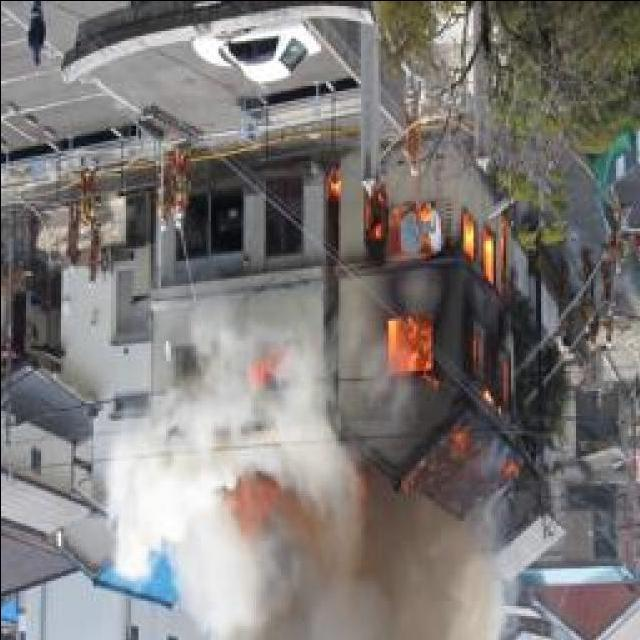Fire: (322, 154, 542, 481)
